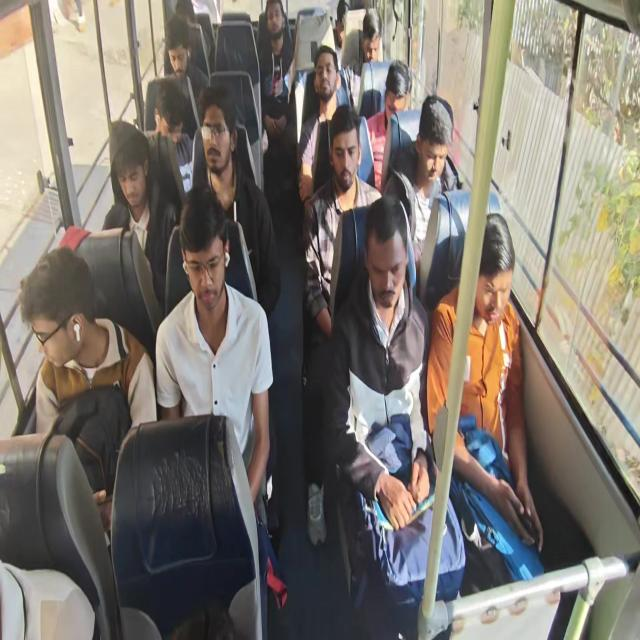person: (20, 2, 559, 636), (324, 193, 466, 622), (426, 212, 544, 561), (19, 245, 157, 543), (154, 185, 274, 522), (301, 103, 383, 546), (188, 85, 280, 318), (102, 121, 174, 307), (382, 94, 458, 267), (298, 44, 350, 204), (256, 1, 296, 200), (364, 59, 412, 192), (162, 13, 209, 136), (153, 77, 193, 192), (341, 8, 384, 110), (361, 8, 383, 62)
